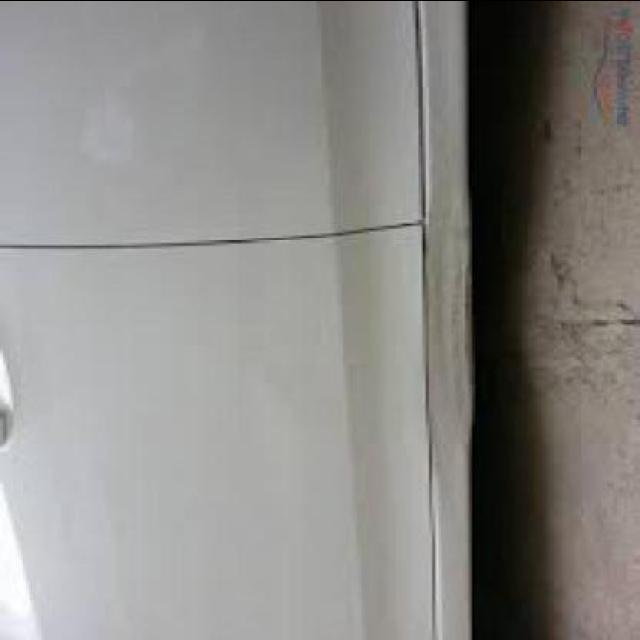RunningBoard-Dent: (420, 197, 466, 486)
